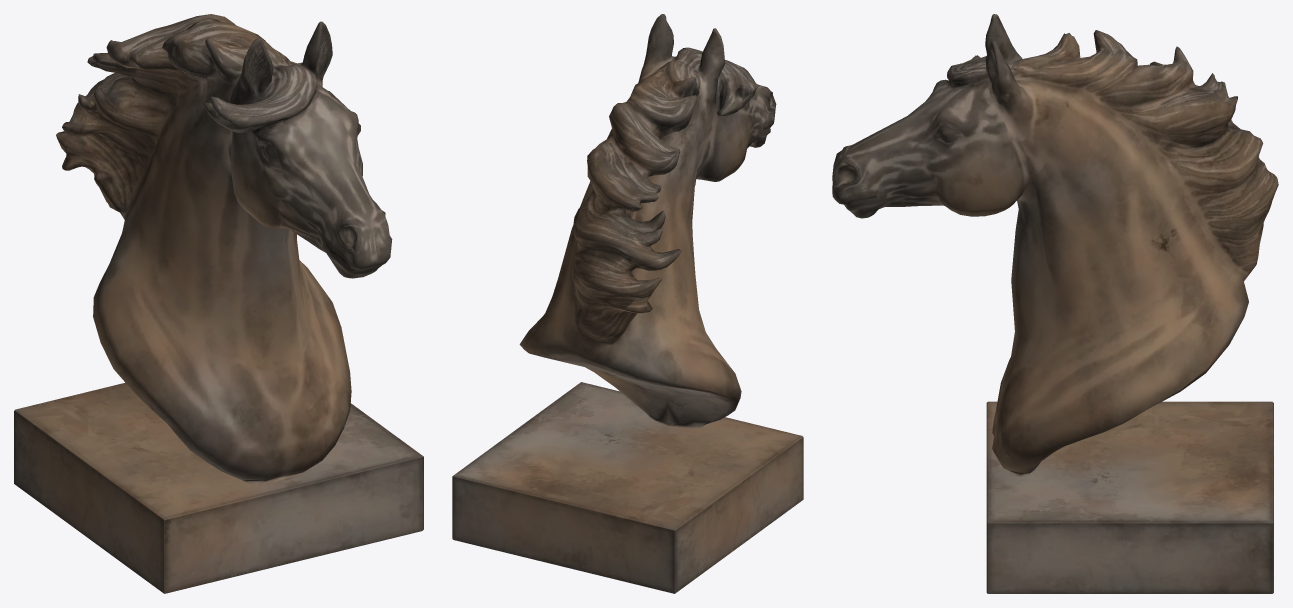
The model's file is horse_head.glb.
3 views of the same model, side by side, from view 1: azimuth 30°, elevation 25°; view 2: azimuth 150°, elevation 25°; view 3: azimuth 270°, elevation 25° (orthographic). The views are drawn at different scales.
Visible parts, largest first — view 1: horse_head; view 2: horse_head; view 3: horse_head.
Boxes of the visible parts, left/top/right/bottom form: horse_head: left=14, top=14, right=423, bottom=593; horse_head: left=452, top=14, right=803, bottom=593; horse_head: left=832, top=14, right=1278, bottom=593.
Size of the model in its own units: 0.215 by 0.4186 by 0.3339.
Materials: 1 (1 with a texture image).
